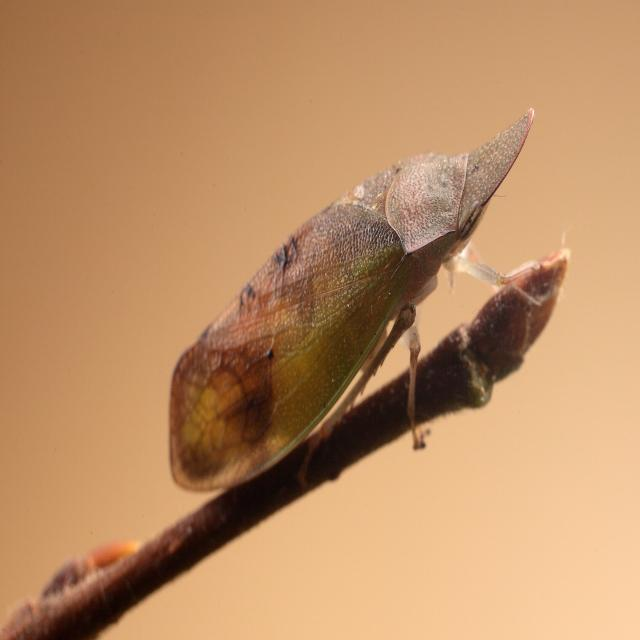Yechan: (156, 101, 538, 499)
